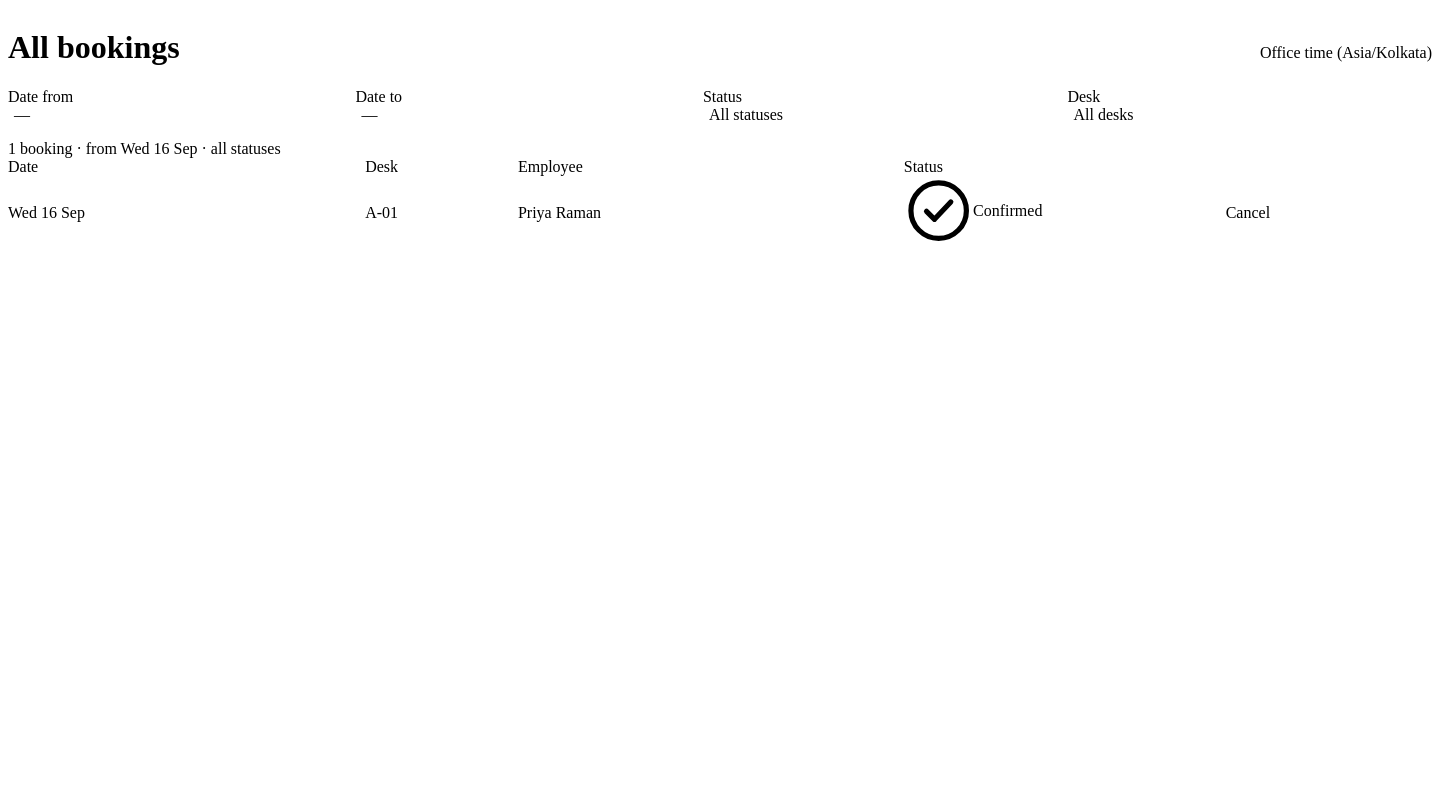
Test: AllBookings — the cancel dialog (US-015/AC-03, AC-07, AC-08) › opening the dialog names that row's employee, desk and date (US-015/AC-03)
What coordinates should you click on to do the following:
click the button "Cancel"
I would click on:
 (1248, 212)
Its box is [1226,204,1270,222].
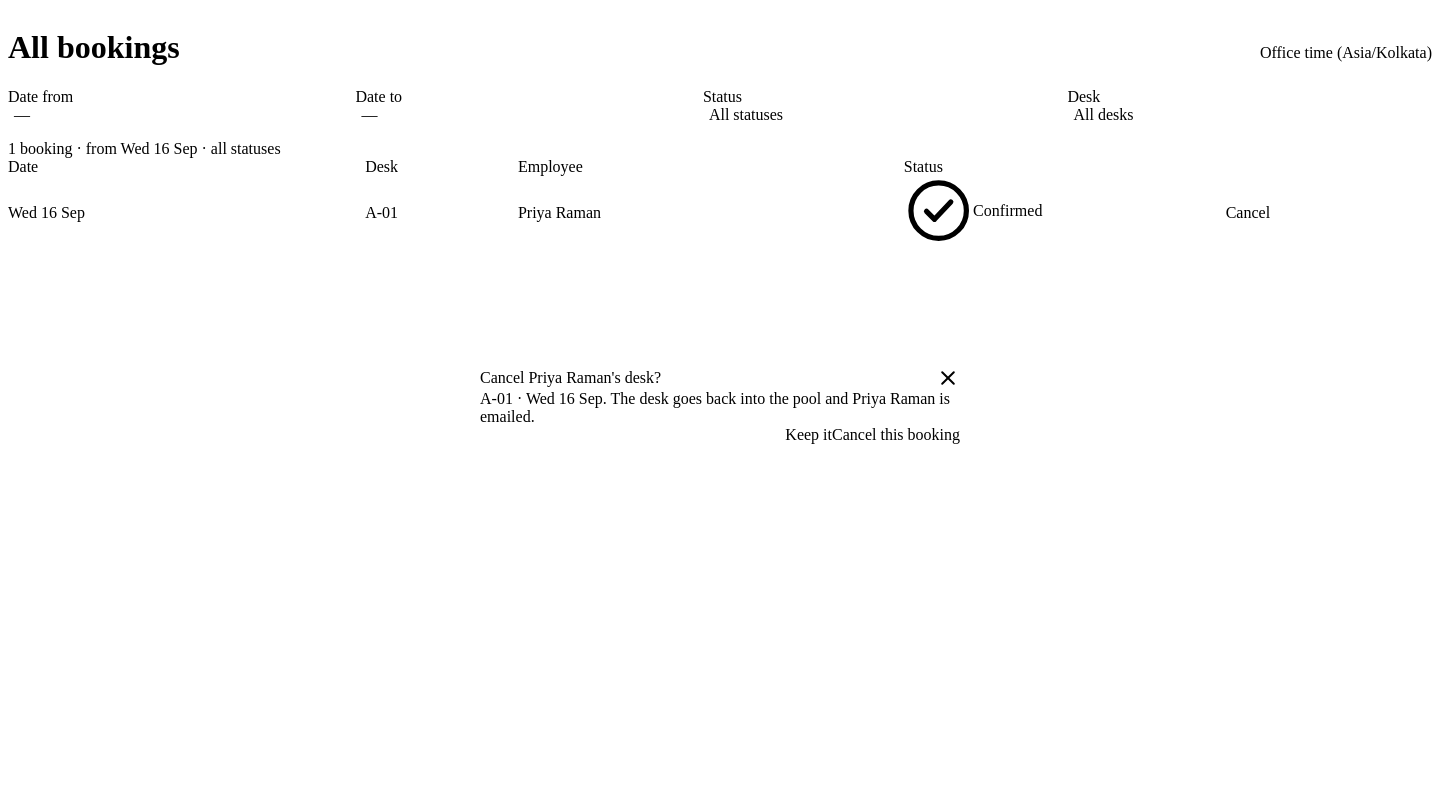
Result: the dialog is shown at [480,366,960,444]
Result: the heading "Cancel Priya Raman's desk?" is shown at [480,369,661,386]
Result: the text "A-01 · Wed 16 Sep. The desk goes back into the pool and Priya Raman is emailed." is shown at [480,390,960,426]
